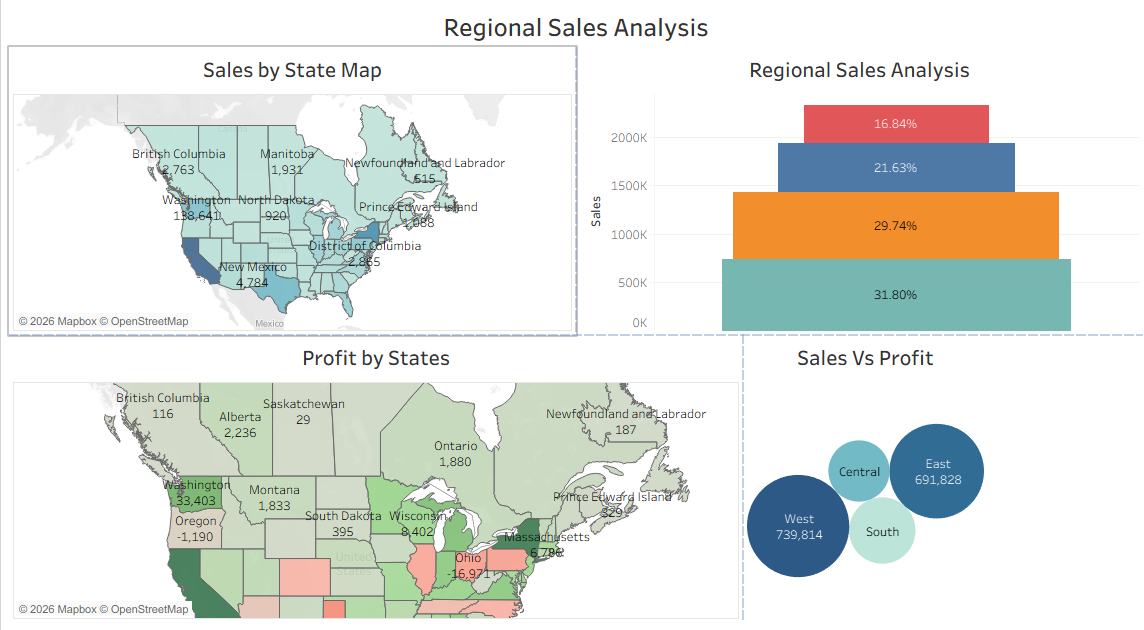

The dashboard page shown, as its layout file describes it:
{"tool":"tableau","page":{"name":"Region Sales Analysis","canvas":[1000,1000],"units":"permille","ordinal":2},"visuals":[{"type":"title","box":[7,13,986,66.6]},{"type":"worksheet","title":"Sales by State Map","mark":"Multipolygon","box":[7,79.5,492.9,453.7]},{"type":"worksheet","title":"Regional Sales Analysis","mark":"Automatic","rows":["Sales"],"box":[500,79.5,493,453.7]},{"type":"worksheet","title":"Profit by States","mark":"Multipolygon","box":[7,533.3,638.3,453.8]},{"type":"worksheet","title":"Sales Vs Profit","mark":"Circle","box":[645.3,533.3,347.7,453.8]}]}

Visuals, with their boxes on the dashboard's canvas, which has no fixed pixel size, in thousandths of its width and height (x1, y1, x2, y2). These are canvas units, not pixel positions in the 1144x630 screenshot, which may show the page scaled, cropped or inside an application window:
title: [left=7, top=13, right=993, bottom=80]
"Sales by State Map" worksheet (Multipolygon marks): [left=7, top=80, right=500, bottom=533]
"Regional Sales Analysis" worksheet: [left=500, top=80, right=993, bottom=533]
"Profit by States" worksheet (Multipolygon marks): [left=7, top=533, right=645, bottom=987]
"Sales Vs Profit" worksheet (Circle marks): [left=645, top=533, right=993, bottom=987]
